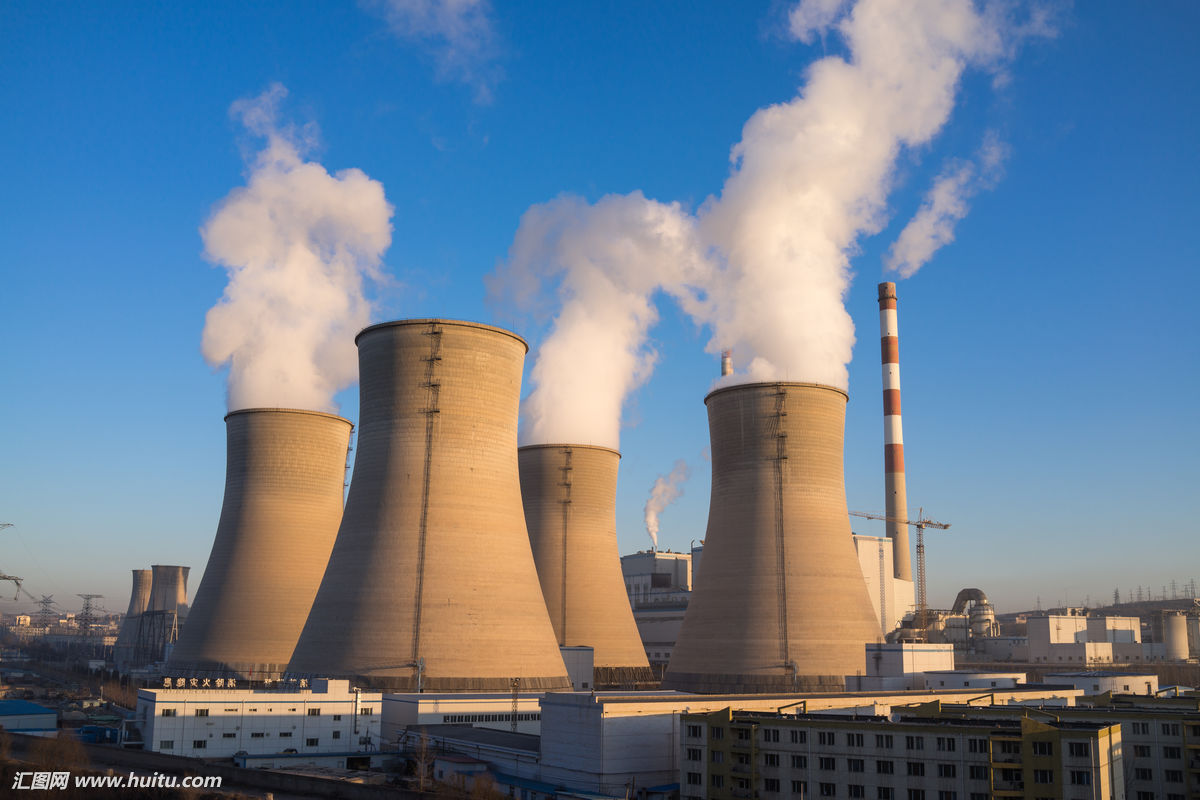dust: (693, 8, 982, 416), (188, 137, 374, 433), (502, 187, 702, 462)
